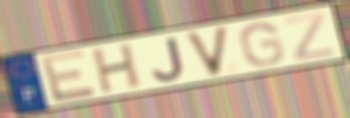E: (37, 48, 99, 105)
G: (238, 21, 287, 68)
H: (91, 40, 143, 96)
J: (149, 35, 187, 83)
V: (182, 23, 231, 79)
Z: (281, 10, 336, 63)
